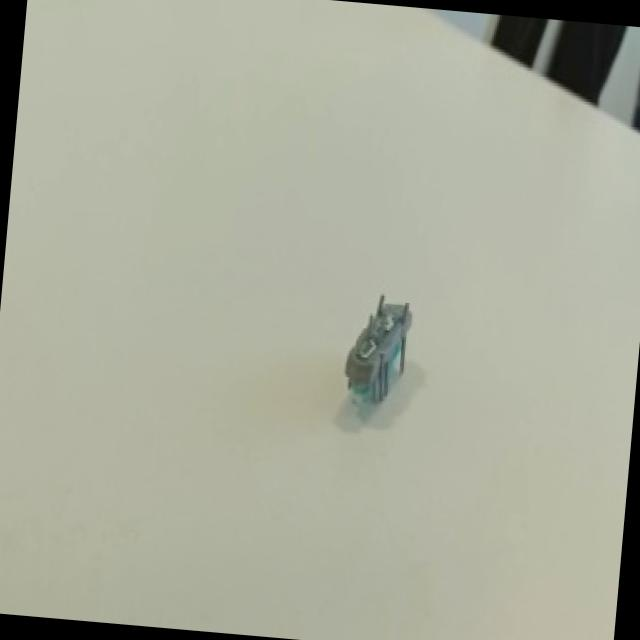5_NanoBug_GrisClaro: (309, 272, 426, 442)
